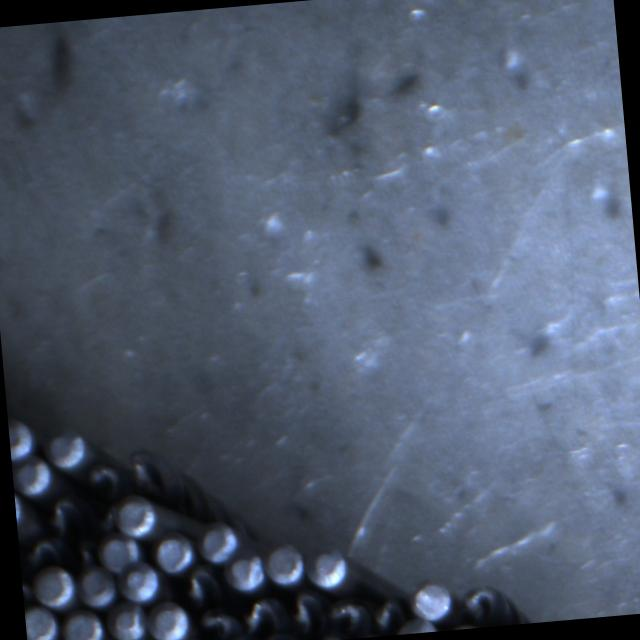tool: (31, 562, 77, 608), (112, 492, 158, 537), (115, 558, 161, 603), (304, 546, 351, 590), (197, 522, 243, 566), (144, 597, 190, 640), (264, 542, 308, 586), (98, 529, 143, 572), (222, 550, 266, 593), (11, 452, 55, 495), (46, 428, 92, 469), (152, 529, 195, 572), (104, 599, 149, 640), (76, 564, 118, 607), (412, 582, 454, 621), (61, 605, 106, 640), (24, 603, 60, 640), (8, 418, 36, 460), (392, 616, 436, 635)
tool_b: (456, 580, 514, 626), (36, 492, 86, 538), (236, 590, 286, 634), (282, 586, 326, 635), (324, 594, 371, 638), (178, 562, 224, 606), (189, 603, 239, 640), (18, 530, 63, 568), (368, 593, 410, 633), (82, 458, 125, 497), (128, 452, 164, 487), (67, 536, 103, 568), (89, 501, 119, 533), (255, 629, 305, 640), (219, 633, 260, 640)
